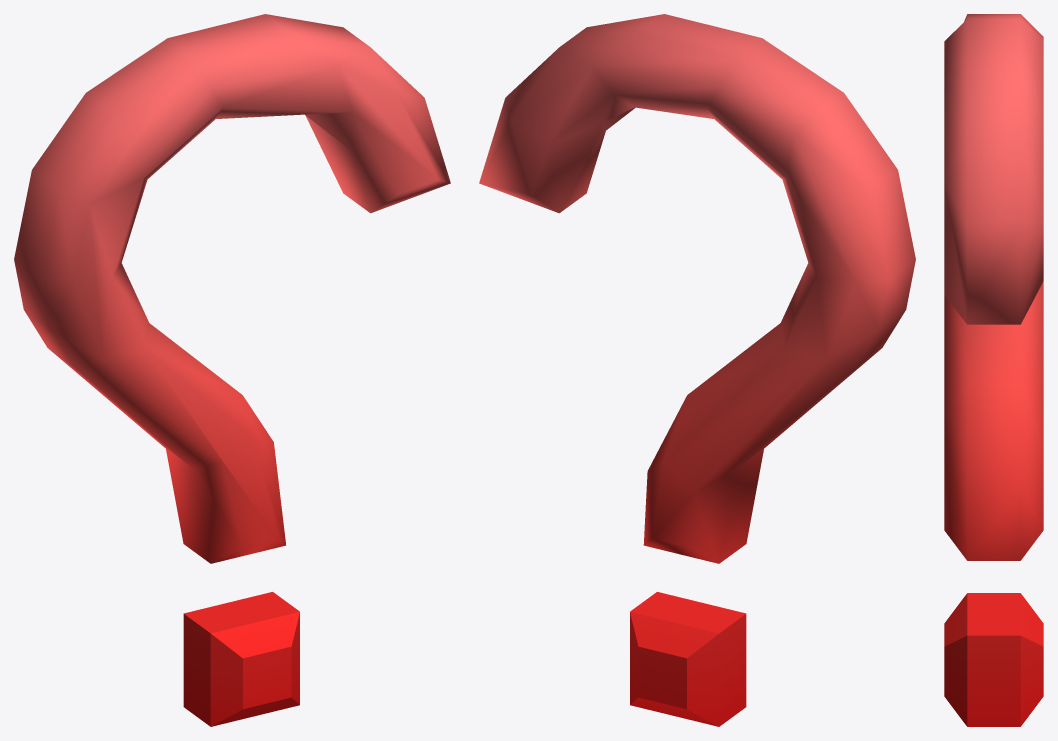
File: TXL0310001.fbx
The picture shows the model from 3 angles, left to right: view 1: azimuth 30°, elevation 25°; view 2: azimuth 150°, elevation 25°; view 3: azimuth 270°, elevation 25°; orthographic projection. The views are drawn at different scales.
Visible parts, largest first — view 1: smTXL0310001; view 2: smTXL0310001; view 3: smTXL0310001.
Boxes of the visible parts, <box> form: smTXL0310001: <box>14,14,450,726</box>; smTXL0310001: <box>479,14,915,726</box>; smTXL0310001: <box>944,14,1043,726</box>.
Size of the model in its own units: 70.64 by 111 by 15.17.
Materials: 1 (1 with a texture image).
